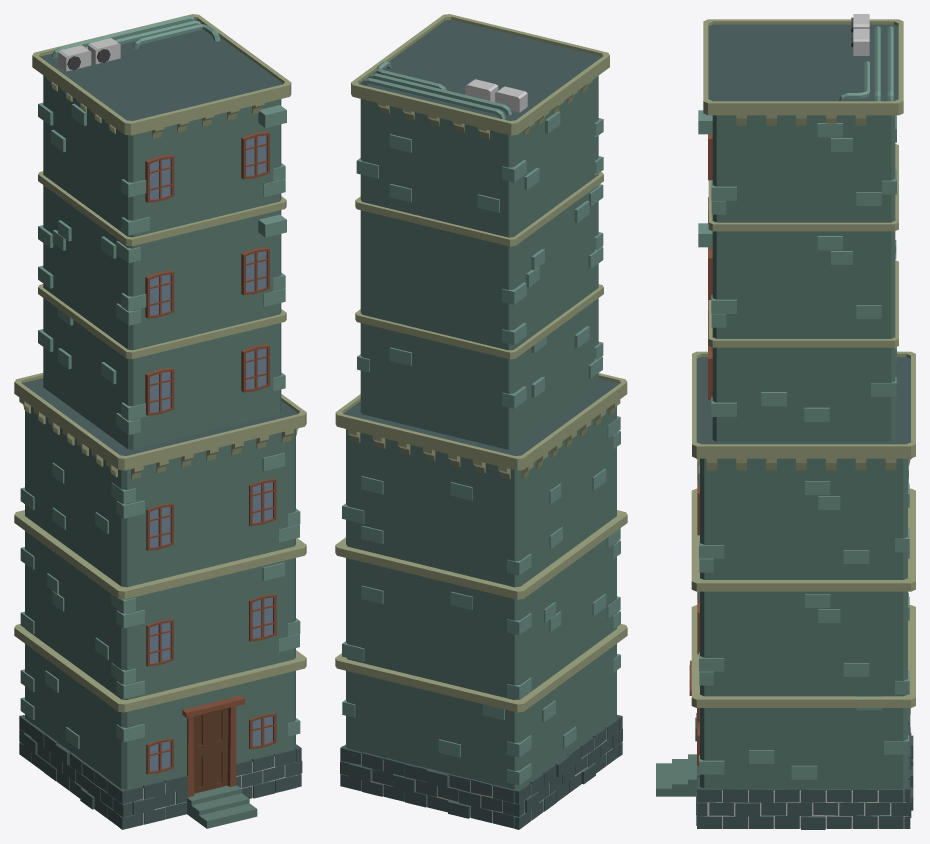
Rendered from Building.glb.
3 views of the same model, side by side, from view 1: azimuth 30°, elevation 25°; view 2: azimuth 150°, elevation 25°; view 3: azimuth 270°, elevation 25° (orthographic). The views are drawn at different scales.
Visible parts, largest first — view 1: 6Story_Stack_Mat; view 2: 6Story_Stack_Mat; view 3: 6Story_Stack_Mat.
Boxes of the visible parts, x1,y1,x2,y2 form: 6Story_Stack_Mat: [14, 14, 306, 829]; 6Story_Stack_Mat: [335, 14, 627, 829]; 6Story_Stack_Mat: [656, 14, 915, 829].
Size of the model in its own units: 2.16 by 7.8 by 2.5.
